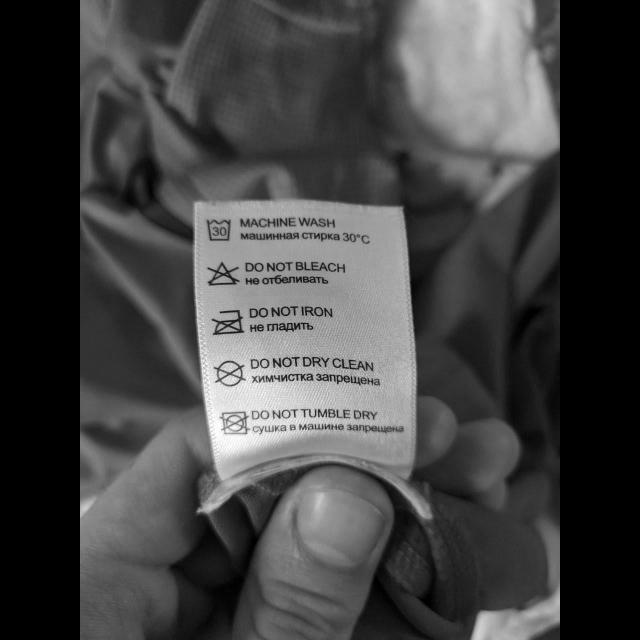30C: (204, 216, 233, 242)
DN_bleach: (206, 260, 242, 288)
DN_dry_clean: (212, 358, 248, 388)
DN_iron: (210, 308, 247, 337)
DN_tumble_dry: (220, 409, 252, 436)
